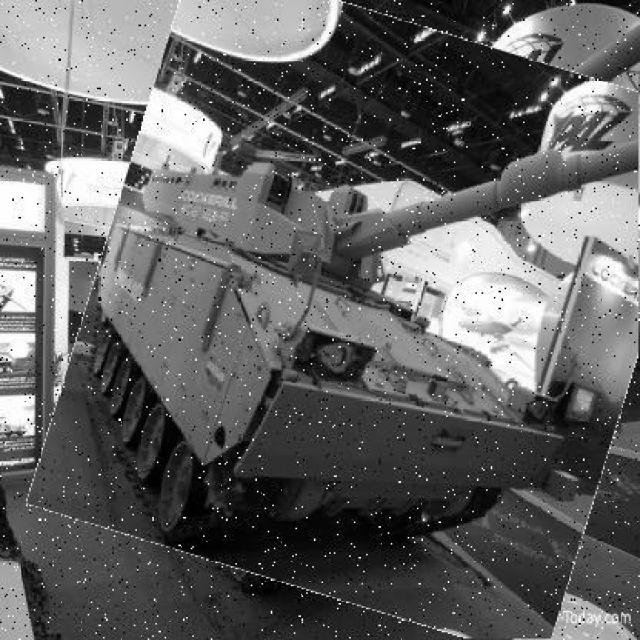Tank: (63, 1, 640, 630)
